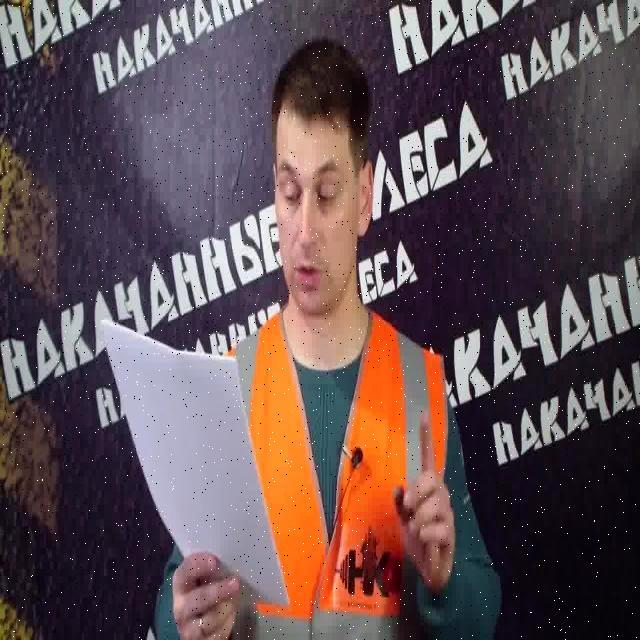Vest: (247, 310, 446, 631)
